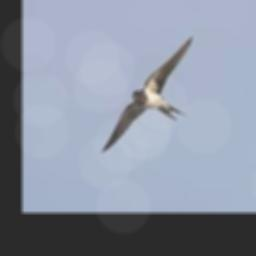Swallow: (101, 36, 194, 154)
